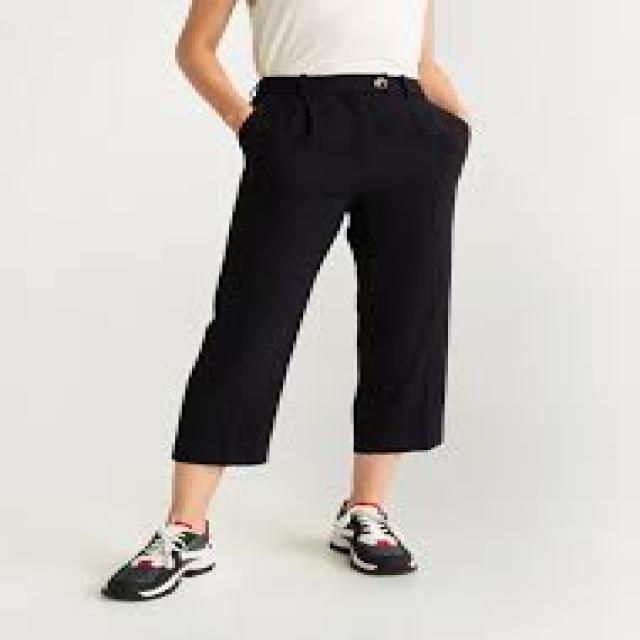pants: (166, 76, 478, 462)
